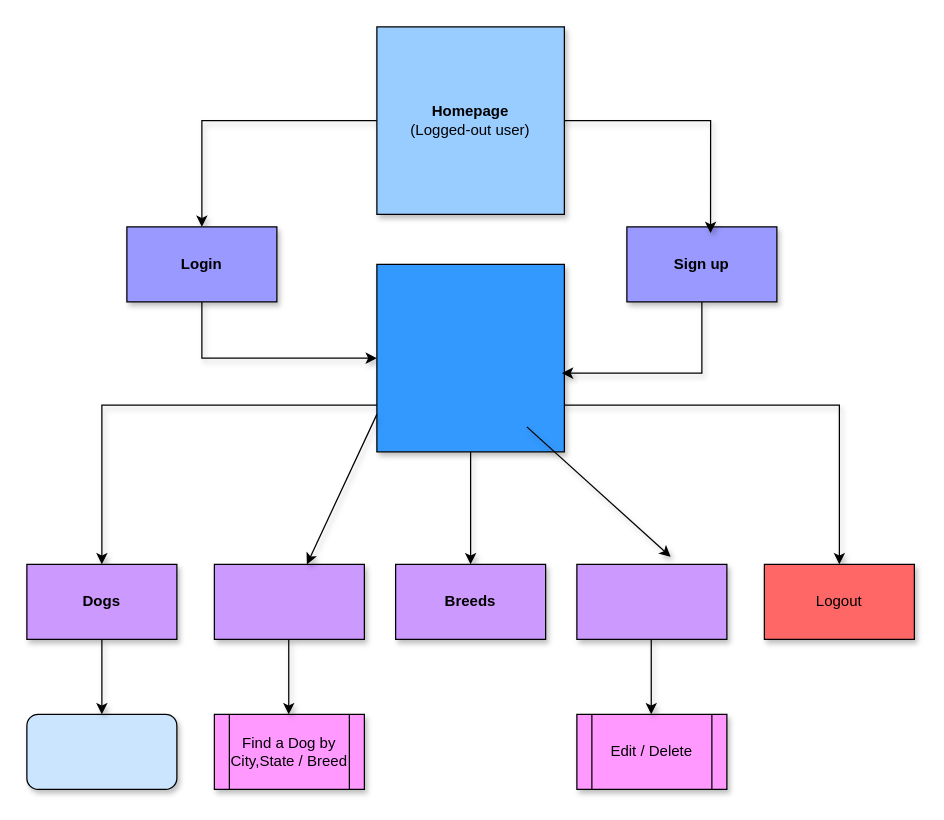
This 944x820 diagram has some shape labels left out. Here are the shapes that lost their labels. From the top down, the centre of each, then its label:
point (471, 359): Homepage (Logged-in user)
point (290, 603): Find a Dog
point (652, 603): Profile
point (102, 753): Dog Details
